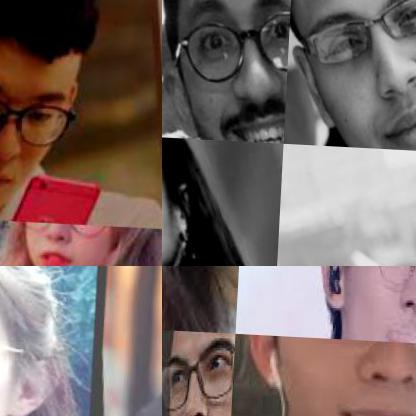Glasses: (0, 19, 96, 180), (8, 221, 136, 256), (0, 310, 34, 416)
glasses: (167, 0, 291, 104), (286, 0, 415, 84), (162, 346, 234, 415), (295, 336, 415, 374), (162, 130, 194, 244), (364, 266, 415, 307)
hands: (216, 140, 284, 265)
